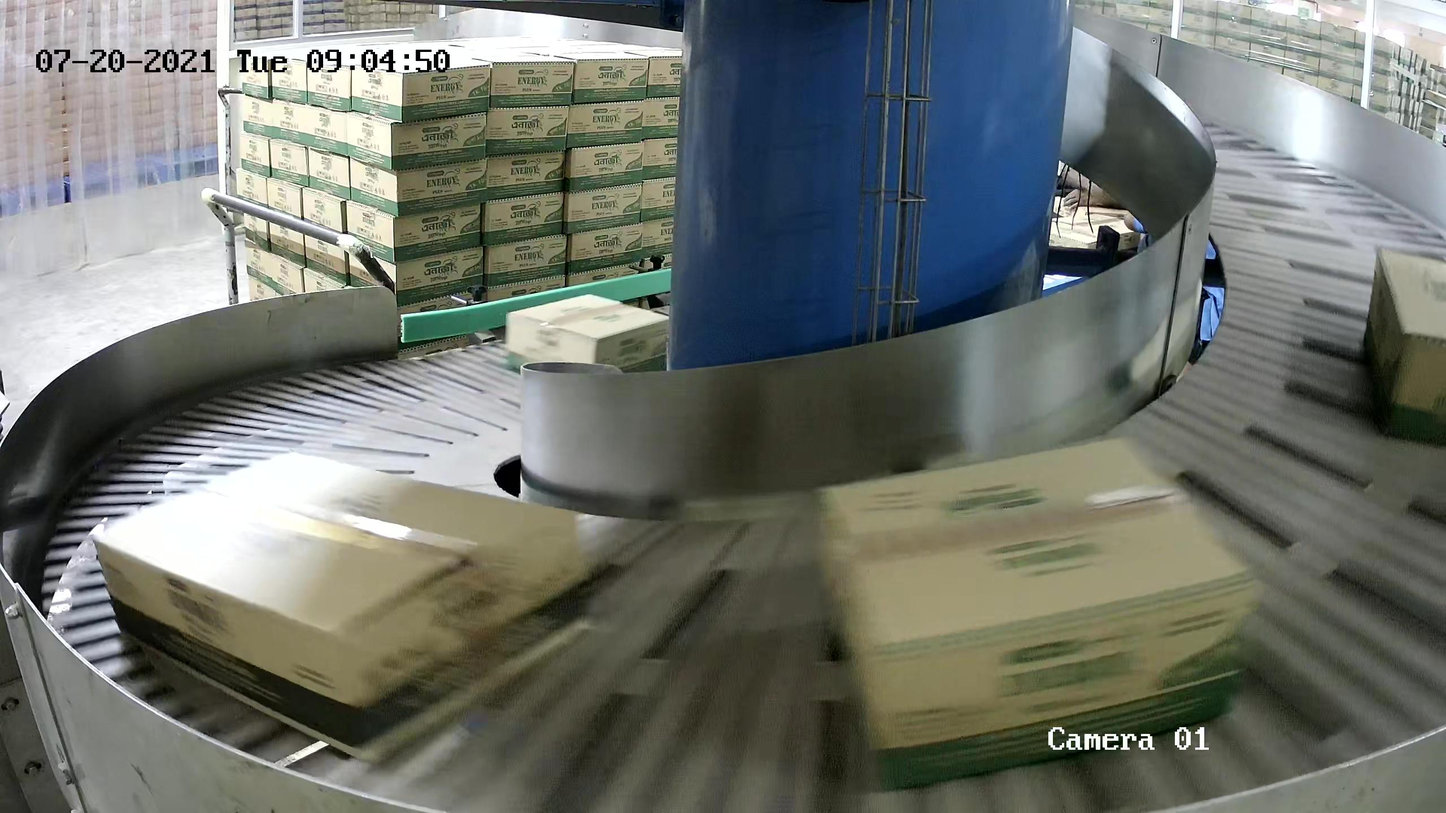Box: (811, 428, 1257, 800), (83, 450, 597, 765), (1358, 244, 1446, 451), (504, 293, 679, 396)
